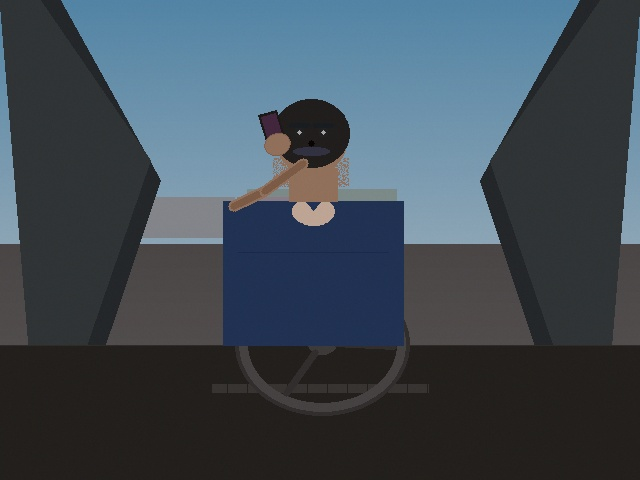phone_usage: (255, 104, 290, 154)
